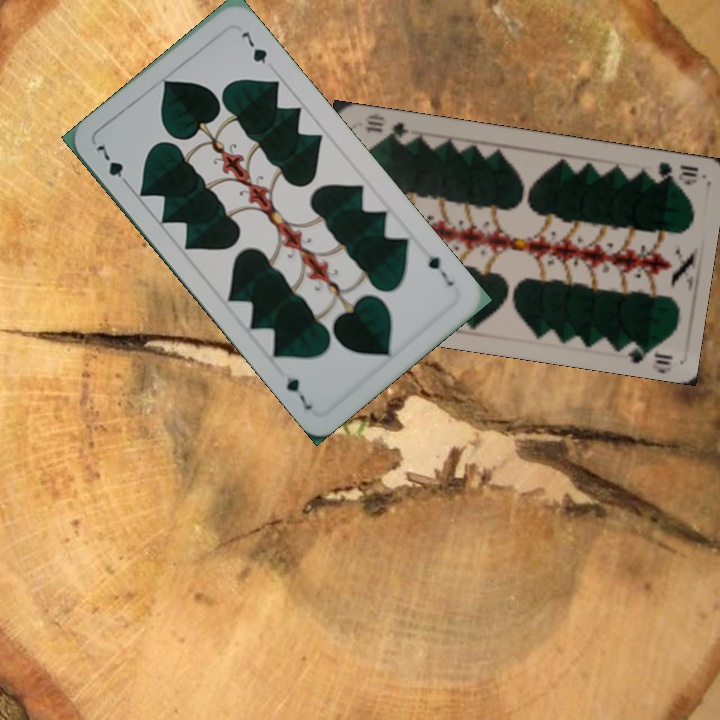G10: (654, 158, 701, 188)
G7: (91, 141, 134, 191), (423, 251, 457, 289)
